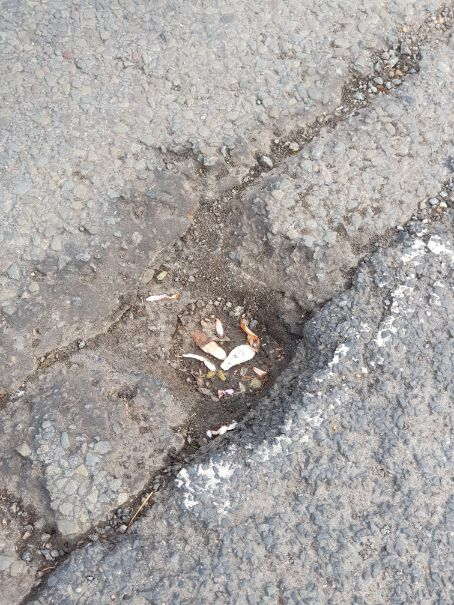pothole: (1, 135, 390, 582)
